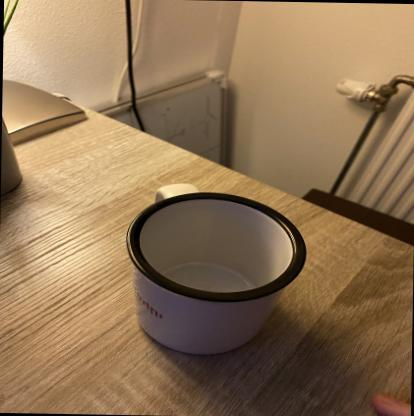Cup: (120, 179, 312, 359)
